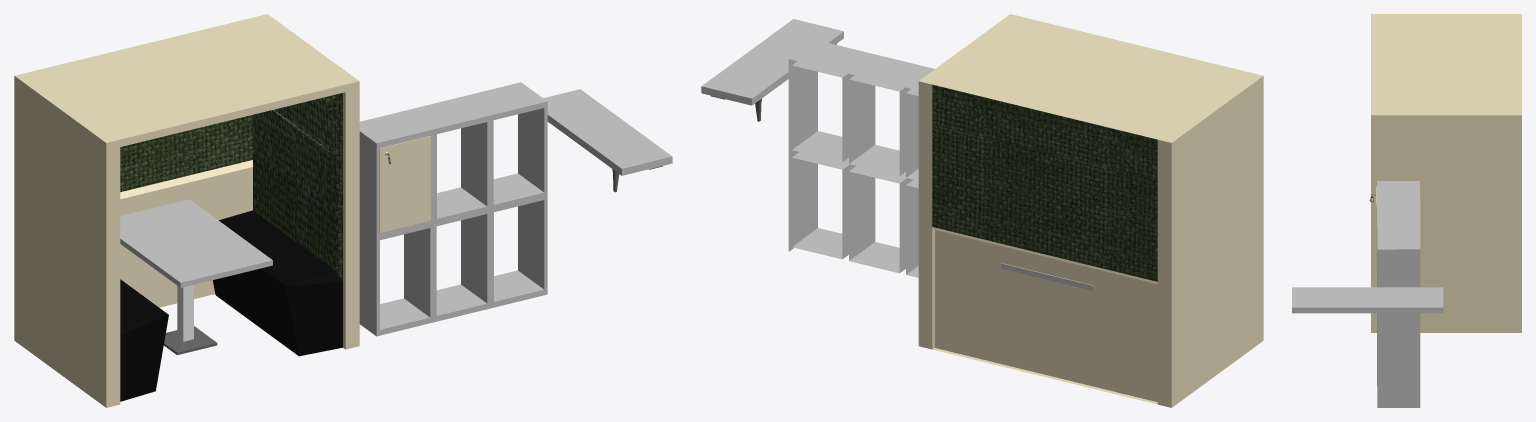
Rendered from PhoneBooth.fbx.
The picture shows the model from 3 angles, left to right: view 1: azimuth 30°, elevation 25°; view 2: azimuth 150°, elevation 25°; view 3: azimuth 270°, elevation 25°; orthographic projection. The views are drawn at different scales.
Parts seen in each view (by area): view 1: PhoneBoothClean, Kallax3x2 Clean, TableClean, ShelvesforCups Clean, CabinetLockerClean; view 2: PhoneBoothClean, Kallax3x2 Clean, ShelvesforCups Clean, TableClean; view 3: PhoneBoothClean, Kallax3x2 Clean, ShelvesforCups Clean.
Boxes of the visible parts, x1,y1,x2,y2 form: PhoneBoothClean: (14, 14, 359, 407); Kallax3x2 Clean: (359, 82, 547, 336); TableClean: (120, 199, 272, 355); ShelvesforCups Clean: (543, 89, 672, 192); CabinetLockerClean: (379, 136, 430, 232); PhoneBoothClean: (918, 14, 1263, 407); Kallax3x2 Clean: (788, 40, 934, 277); ShelvesforCups Clean: (701, 19, 843, 121); TableClean: (1001, 263, 1093, 290); PhoneBoothClean: (1371, 14, 1521, 332); Kallax3x2 Clean: (1377, 181, 1420, 407); ShelvesforCups Clean: (1292, 287, 1443, 313).
Bounding box in the file's own units: 778 × 381 × 364.
